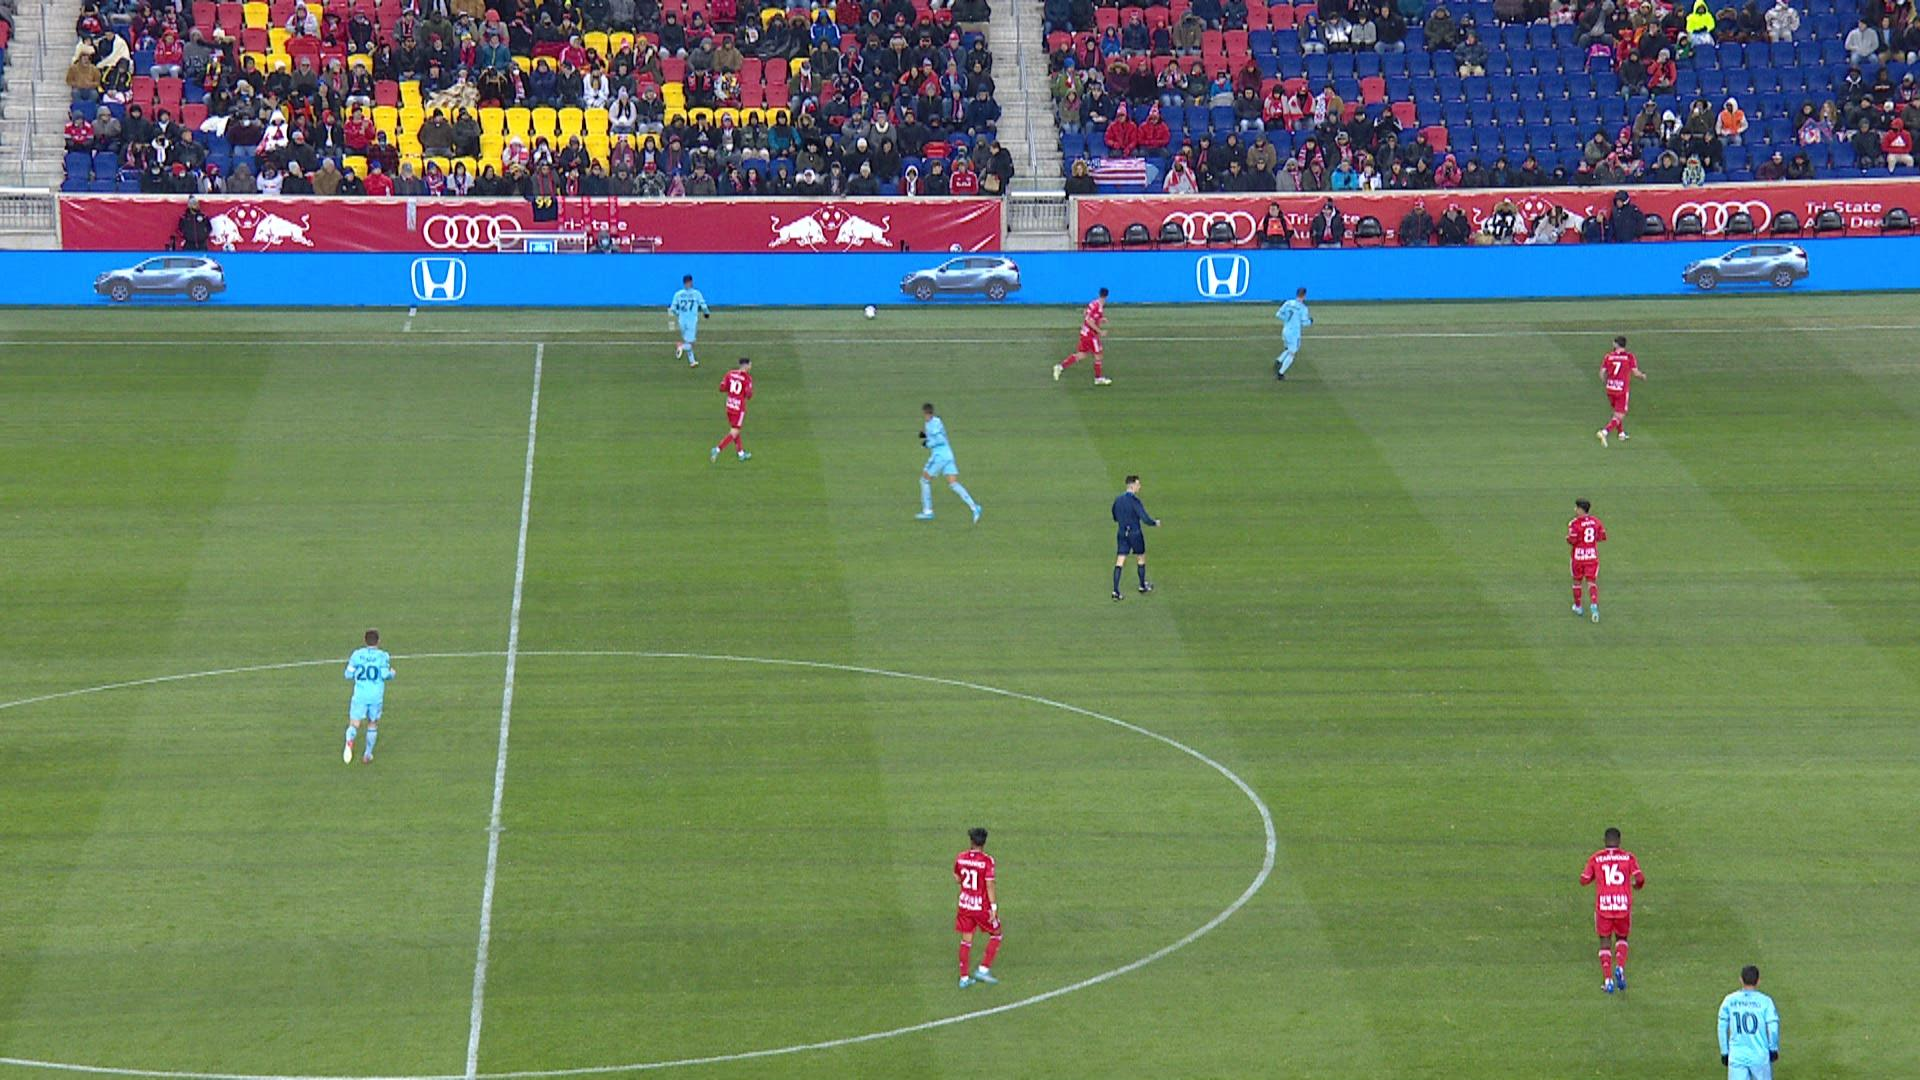football: (864, 303, 877, 319)
